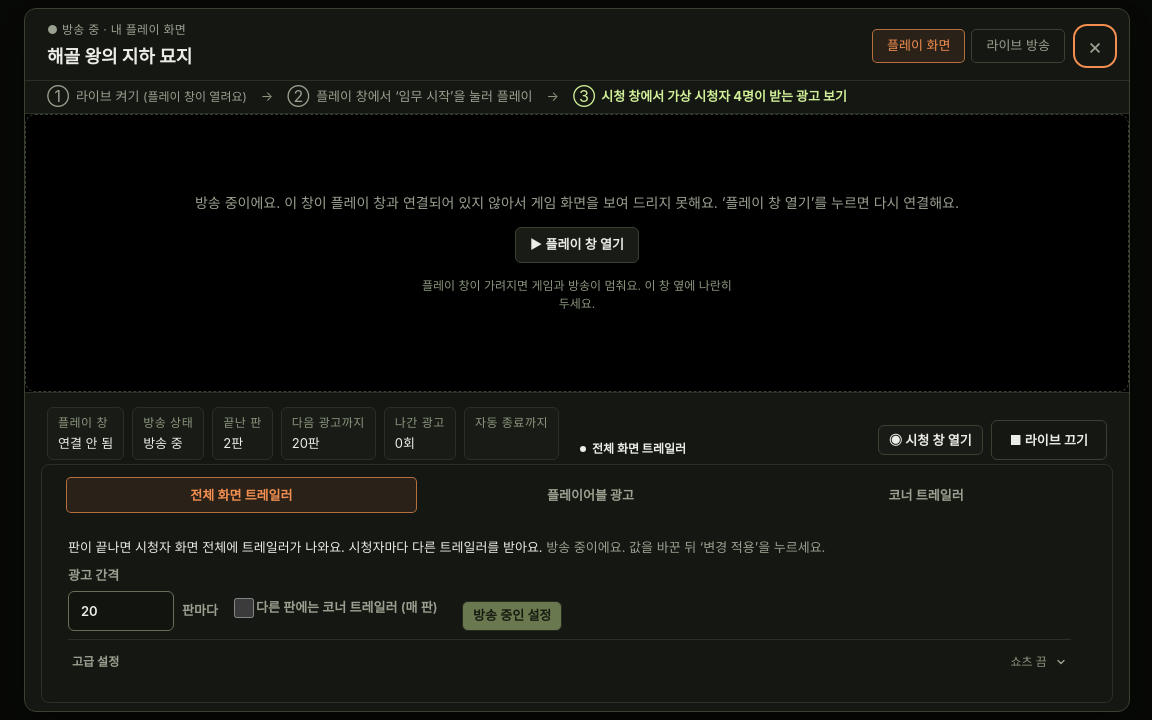
control room ad tabs (GameModal) › a status poll sent before 변경 적용 but answered after it does not flip the tab back to 트레일러
Click the tab with id "adtype-tab-playable" at (591, 495), box [423,477,758,513]
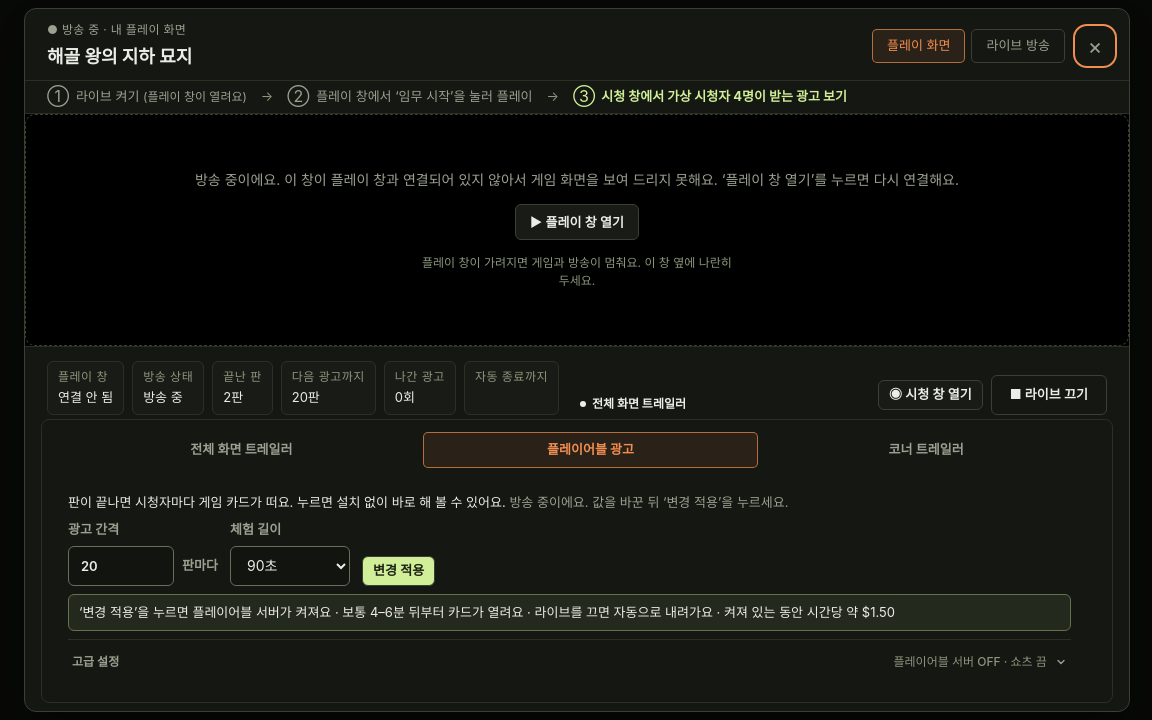
Click the button "변경 적용" at (399, 570), box [362,556,435,586]
Wait 8000 ms
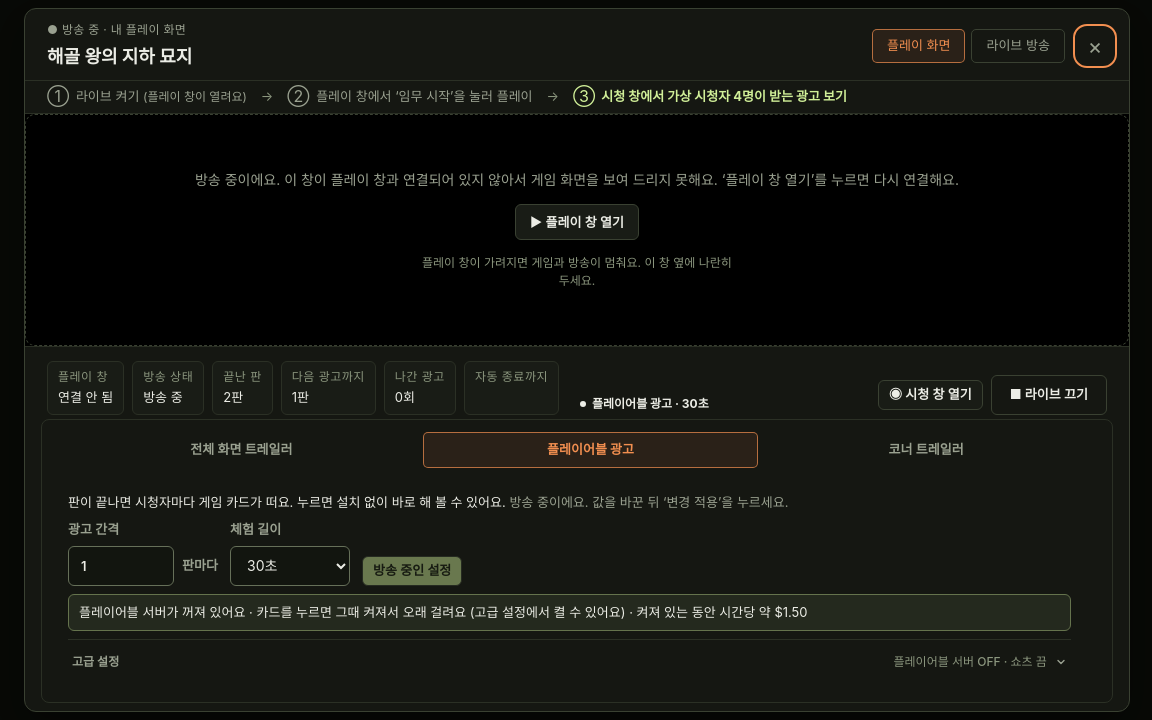
Expected: the text with class "badge" shows "플레이어블 광고", [592,396,709,411]
